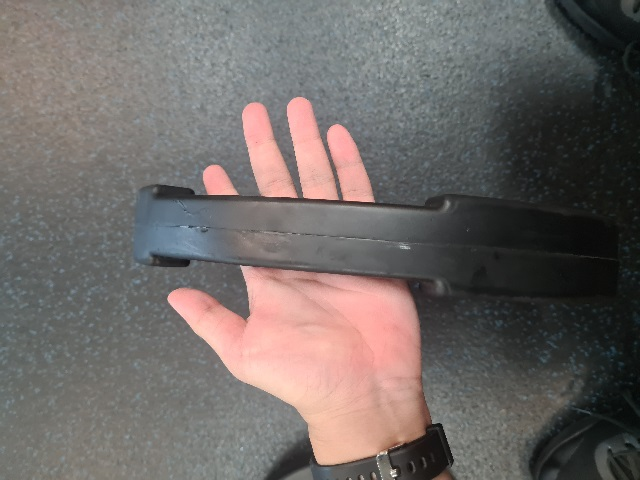weights: (134, 183, 622, 300)
